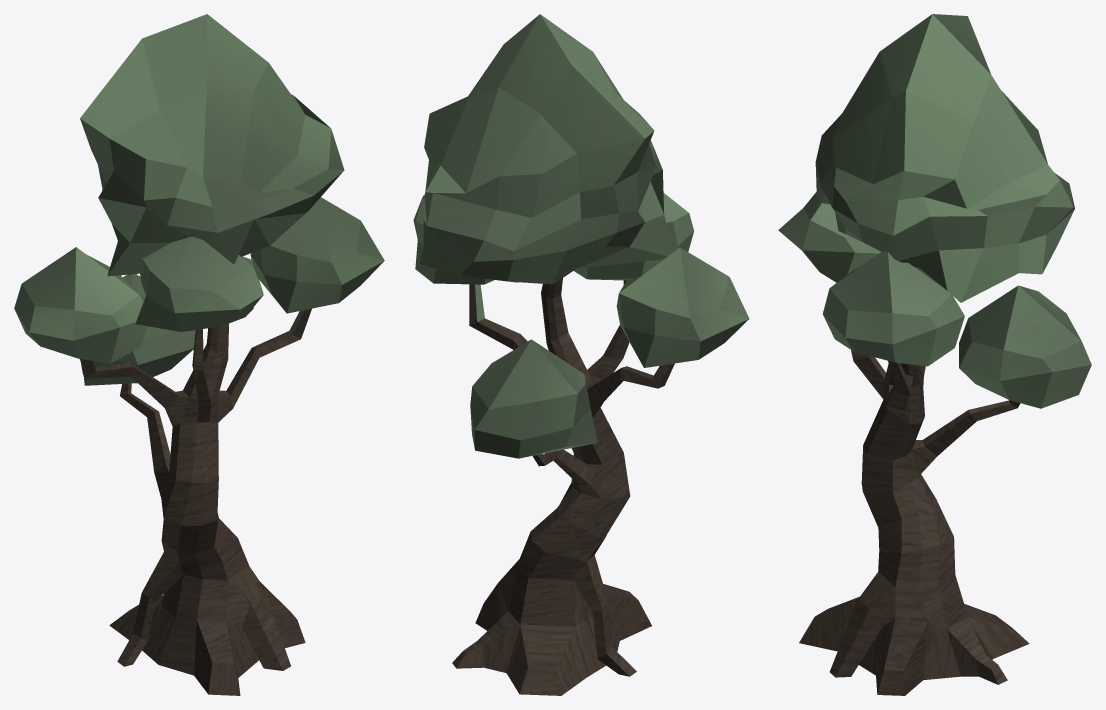
The model's file is tree_obj.FBX.
The picture shows the model from 3 angles, left to right: view 1: azimuth 30°, elevation 25°; view 2: azimuth 150°, elevation 25°; view 3: azimuth 270°, elevation 25°; orthographic projection. The views are drawn at different scales.
Parts seen in each view (by area): view 1: Cube.001; view 2: Cube.001; view 3: Cube.001.
Part boxes in pixels (x1,y1,x2,y2): Cube.001: (14, 14, 384, 695); Cube.001: (413, 14, 749, 695); Cube.001: (778, 14, 1091, 695).
Bounding box in the file's own units: 194 × 347 × 153.
